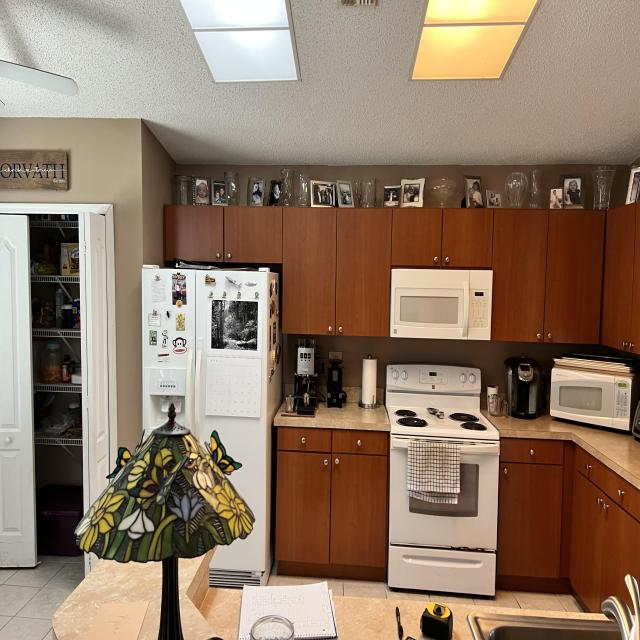Appliance_Fridge: (142, 264, 282, 574)
Appliance_Microwave: (388, 267, 492, 342)
Appliance_Oven: (385, 364, 500, 600)
Appliance_Sink: (471, 574, 640, 640), (450, 605, 610, 640)
Cabinet_Flat: (164, 200, 640, 355), (498, 438, 640, 614), (275, 429, 389, 583)
Countertop_Laminate: (489, 412, 640, 490), (52, 559, 162, 640), (187, 554, 242, 640), (334, 597, 426, 640), (272, 401, 388, 431), (178, 555, 218, 640)
